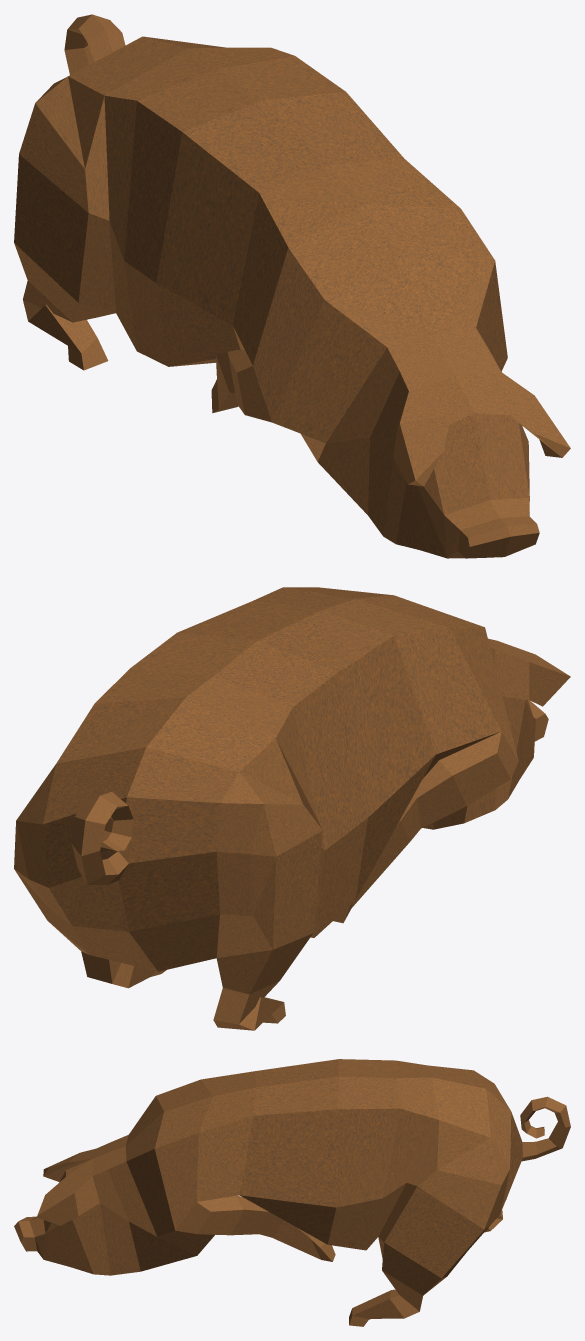
Rendered from Pig_000004.obj.
3 renders of one model, top to bottom at view 1: azimuth 30°, elevation 25°; view 2: azimuth 150°, elevation 25°; view 3: azimuth 270°, elevation 25°, orthographic. The views are drawn at different scales.
Visible parts, largest first — view 1: Pig_Cylinder; view 2: Pig_Cylinder; view 3: Pig_Cylinder.
Boxes of the visible parts, box(x1,y1,x2,y2) form: Pig_Cylinder: box(14, 14, 570, 558); Pig_Cylinder: box(14, 587, 570, 1030); Pig_Cylinder: box(14, 1059, 570, 1326).
Bounding box in the file's own units: 3.38 × 4.15 × 9.6.
1 material, 1 textured.
